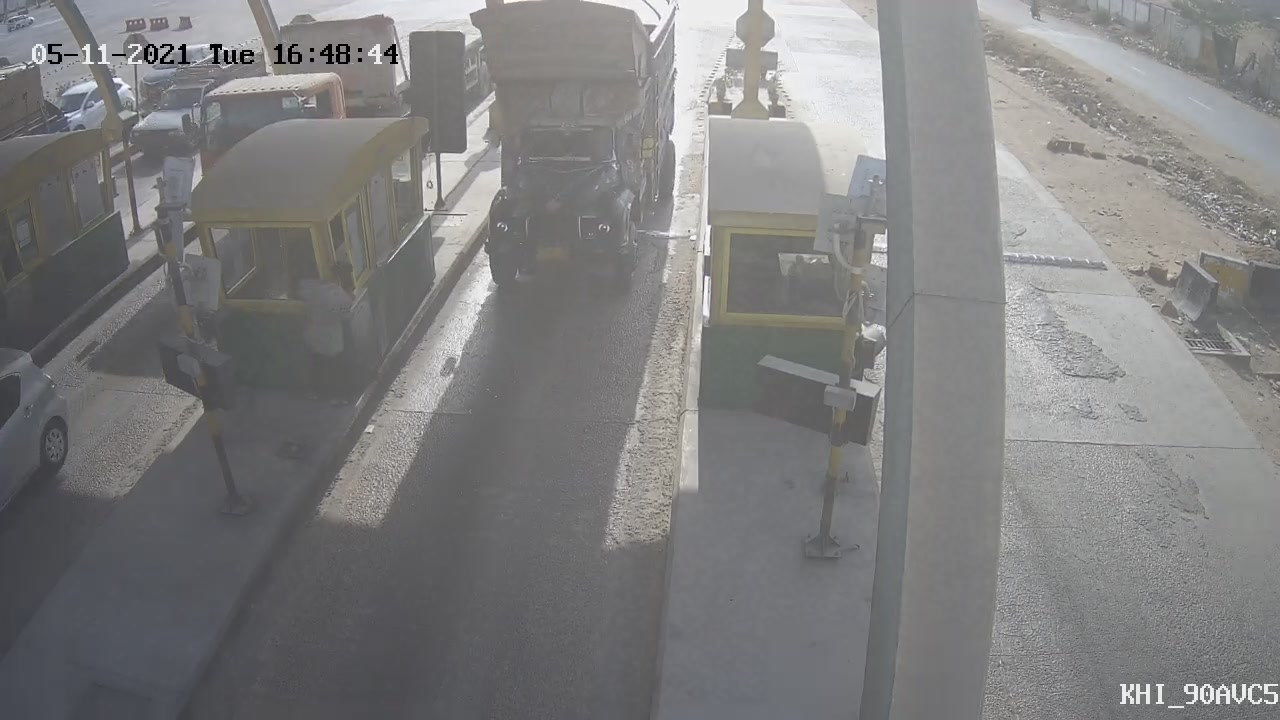F5: (447, 3, 699, 299)
